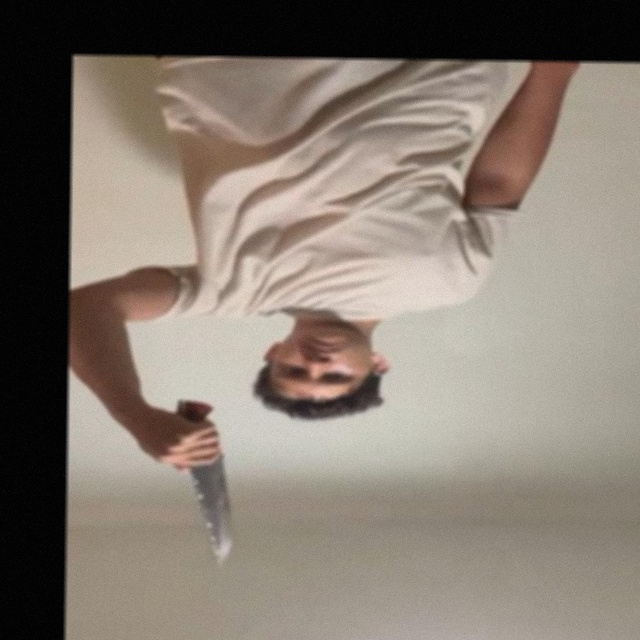Sharp-Object: (183, 456, 235, 566)
